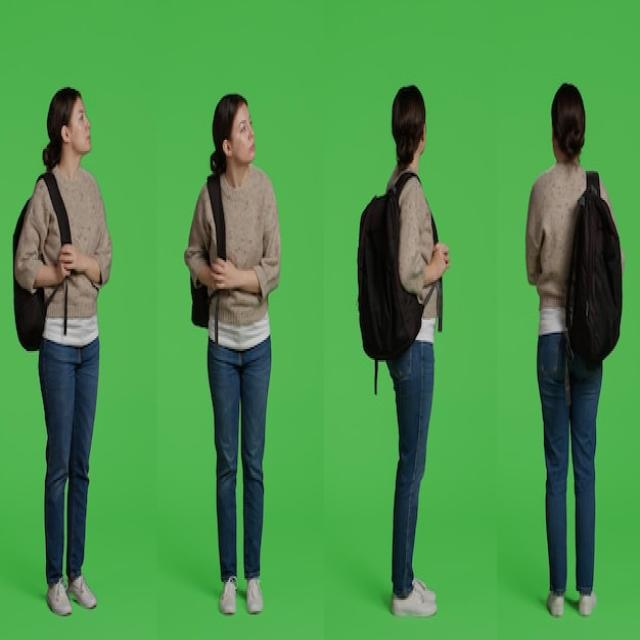Person: (13, 87, 112, 616), (526, 82, 624, 616), (185, 94, 281, 616), (359, 84, 451, 616)
